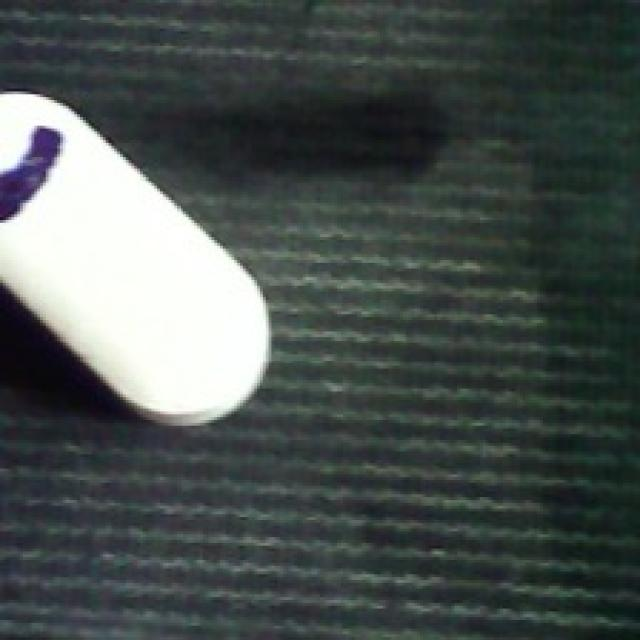defected: (0, 88, 274, 434)
